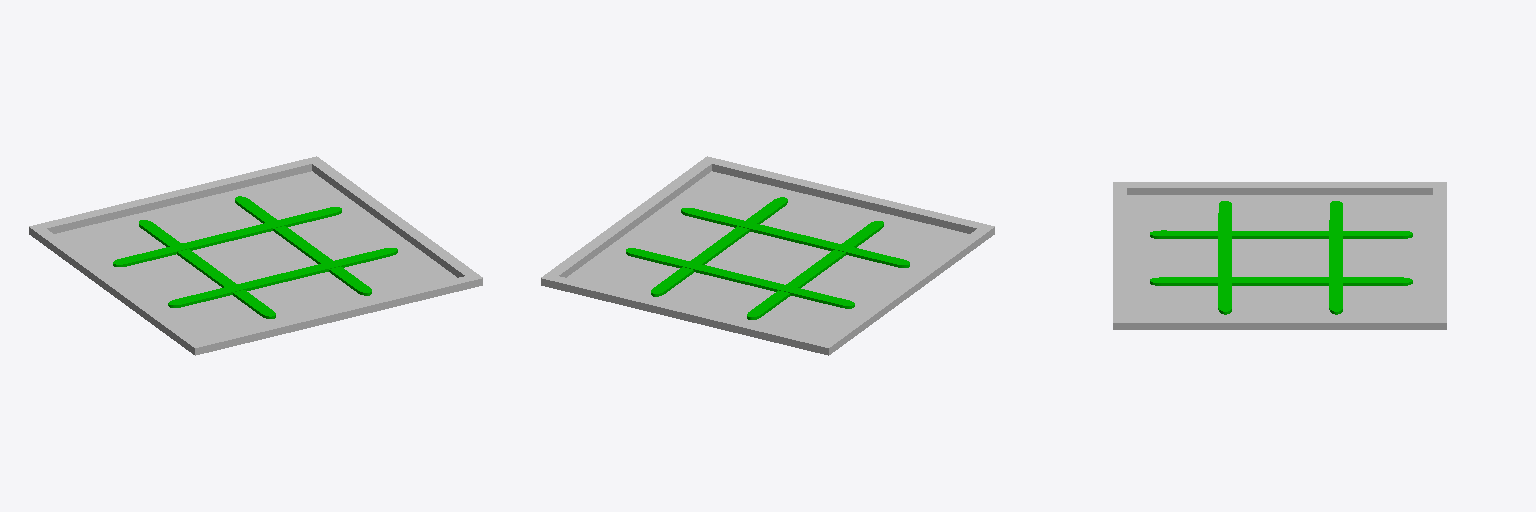
File: Board.obj
3 views of the same model, side by side, from view 1: azimuth 30°, elevation 25°; view 2: azimuth 150°, elevation 25°; view 3: azimuth 270°, elevation 25° (orthographic).
Visible parts, largest first — view 1: Plane, Circle.002, Circle.003, Circle.001, Circle; view 2: Plane, Circle.003, Circle.002, Circle, Circle.001; view 3: Plane, Circle.001, Circle, Circle.002, Circle.003.
Part boxes in pixels (left/top/right/bottom): Plane: left=29, top=156, right=482, bottom=355; Circle.002: left=168, top=248, right=397, bottom=307; Circle.003: left=113, top=207, right=341, bottom=266; Circle.001: left=235, top=196, right=371, bottom=295; Circle: left=139, top=220, right=275, bottom=318; Plane: left=541, top=156, right=994, bottom=355; Circle.003: left=626, top=248, right=854, bottom=308; Circle.002: left=681, top=208, right=909, bottom=267; Circle: left=747, top=221, right=883, bottom=319; Circle.001: left=651, top=197, right=787, bottom=296; Plane: left=1113, top=182, right=1446, bottom=329; Circle.001: left=1150, top=277, right=1412, bottom=285; Circle: left=1150, top=230, right=1412, bottom=238; Circle.002: left=1218, top=201, right=1231, bottom=314; Circle.003: left=1329, top=201, right=1342, bottom=314.
Bounding box in the file's own units: 6 × 0.1459 × 6.